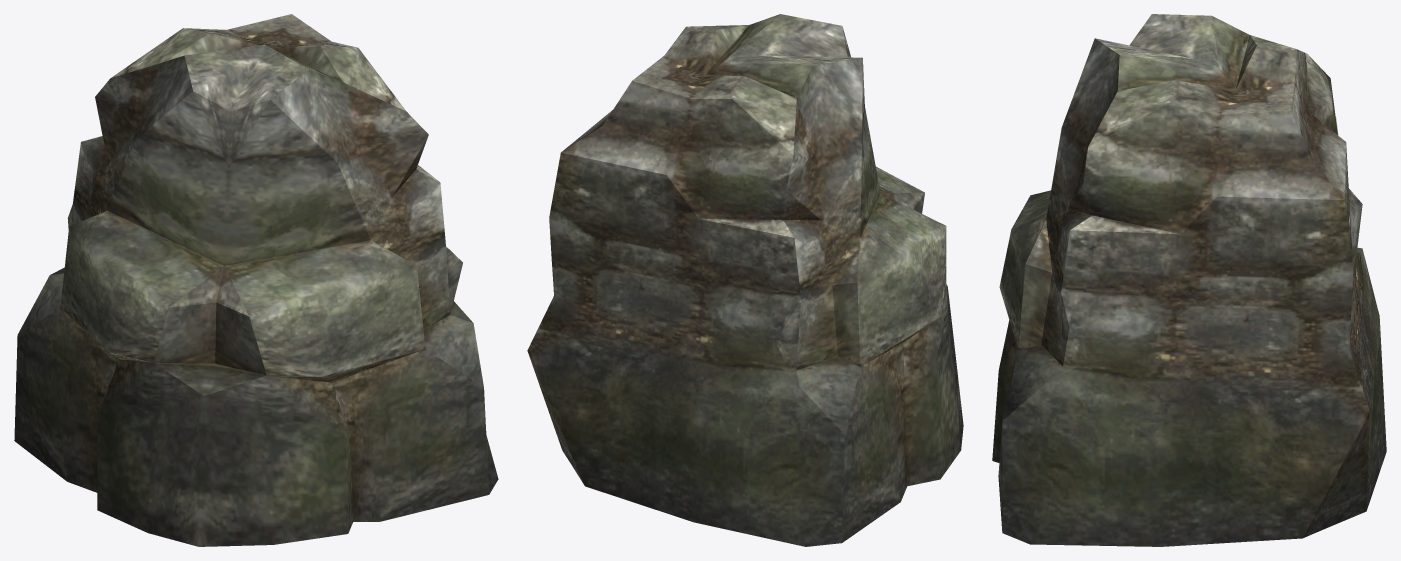
Rendered from shrine_rock_06.glb.
The picture shows the model from 3 angles, left to right: view 1: azimuth 30°, elevation 25°; view 2: azimuth 150°, elevation 25°; view 3: azimuth 270°, elevation 25°; orthographic projection. The views are drawn at different scales.
Parts seen in each view (by area): view 1: Shrine_rock_06; view 2: Shrine_rock_06; view 3: Shrine_rock_06.
Boxes of the visible parts, x1,y1,x2,y2 form: Shrine_rock_06: [14, 14, 498, 546]; Shrine_rock_06: [527, 14, 963, 546]; Shrine_rock_06: [992, 14, 1386, 546].
Size of the model in its own units: 3.17 by 3.7 by 3.16.
Materials: 1 (1 with a texture image).
